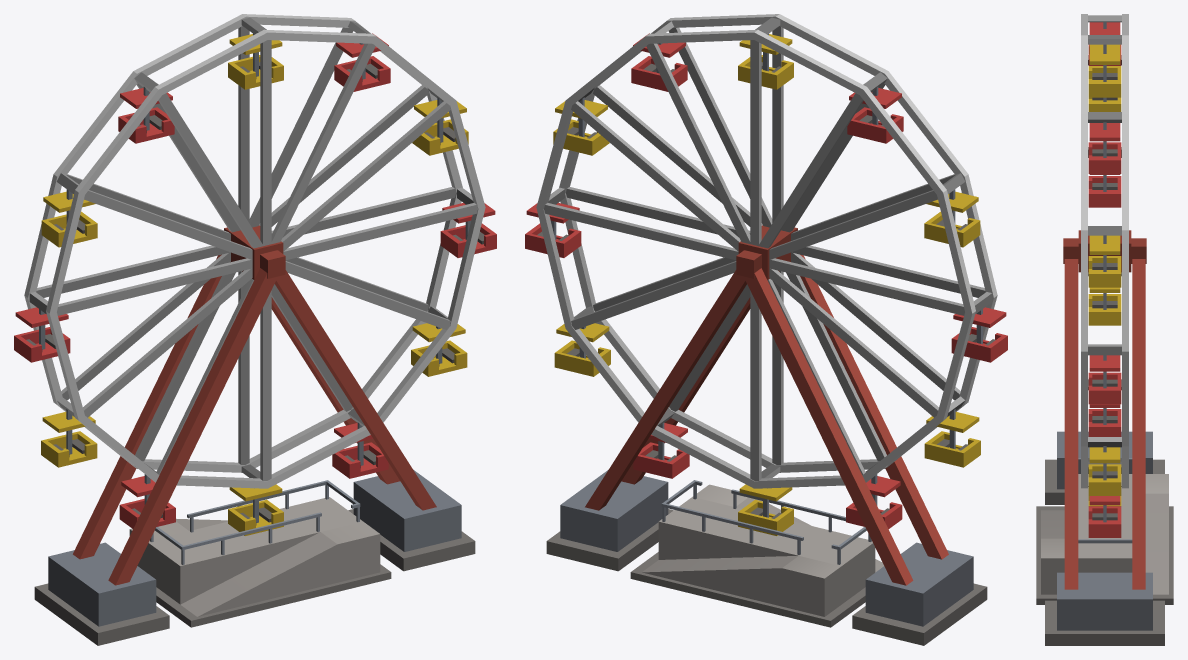
Rendered from Mec_Motianlun.FBX.
3 views of the same model, side by side, from view 1: azimuth 30°, elevation 25°; view 2: azimuth 150°, elevation 25°; view 3: azimuth 270°, elevation 25° (orthographic). The views are drawn at different scales.
Parts seen in each view (by area): view 1: SC_Bld_FerrisWheel_Static; view 2: SC_Bld_FerrisWheel_Static; view 3: SC_Bld_FerrisWheel_Static.
Boxes of the visible parts, left/top/right/bottom form: SC_Bld_FerrisWheel_Static: left=14, top=14, right=496, bottom=645; SC_Bld_FerrisWheel_Static: left=525, top=14, right=1007, bottom=645; SC_Bld_FerrisWheel_Static: left=1036, top=14, right=1173, bottom=645.
Size of the model in its own units: 380 by 431 by 102.
Materials: 1 (1 with a texture image).
